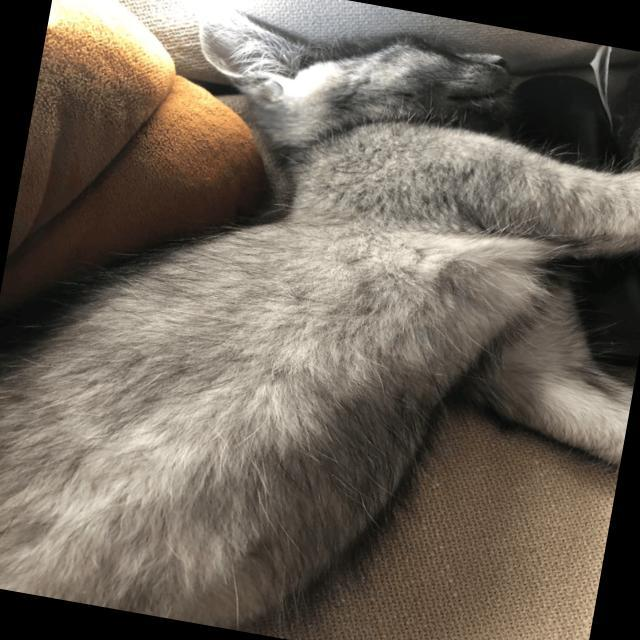Healthy skin: (0, 398, 233, 592), (199, 286, 401, 448), (358, 150, 495, 258), (237, 232, 432, 307), (82, 311, 200, 404), (469, 294, 573, 394), (306, 77, 384, 142), (555, 178, 640, 225)
